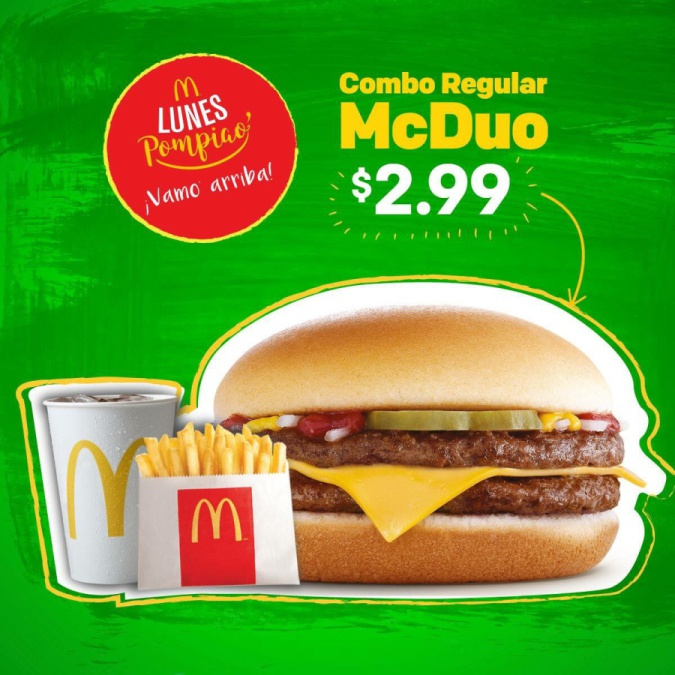mcdonalds: (183, 495, 251, 552)
